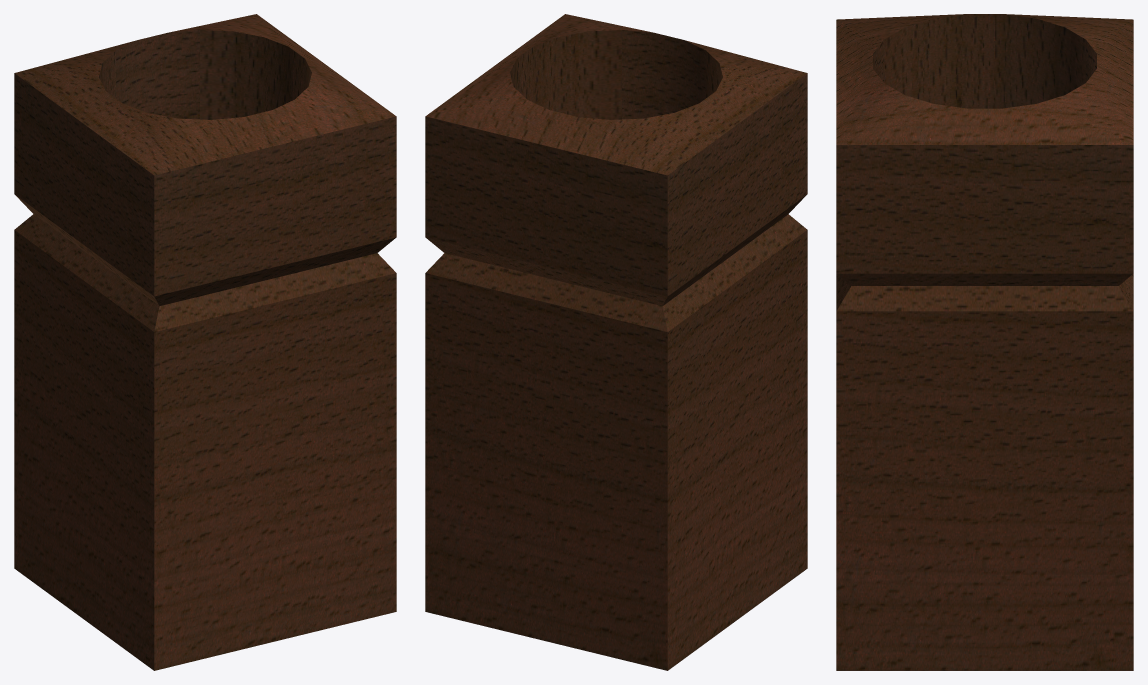
File: Koma_B_So_C2.fbx
3 views of the same model, side by side, from view 1: azimuth 30°, elevation 25°; view 2: azimuth 150°, elevation 25°; view 3: azimuth 270°, elevation 25° (orthographic). The views are drawn at different scales.
Parts seen in each view (by area): view 1: Koma_B_So_C2; view 2: Koma_B_So_C2; view 3: Koma_B_So_C2.
Part boxes in pixels (x1,y1,x2,y2): Koma_B_So_C2: [14, 14, 396, 670]; Koma_B_So_C2: [425, 14, 807, 670]; Koma_B_So_C2: [836, 14, 1133, 670].
Size of the model in its own units: 1.28 by 2.6 by 1.28.
Materials: 1 (1 with a texture image).
